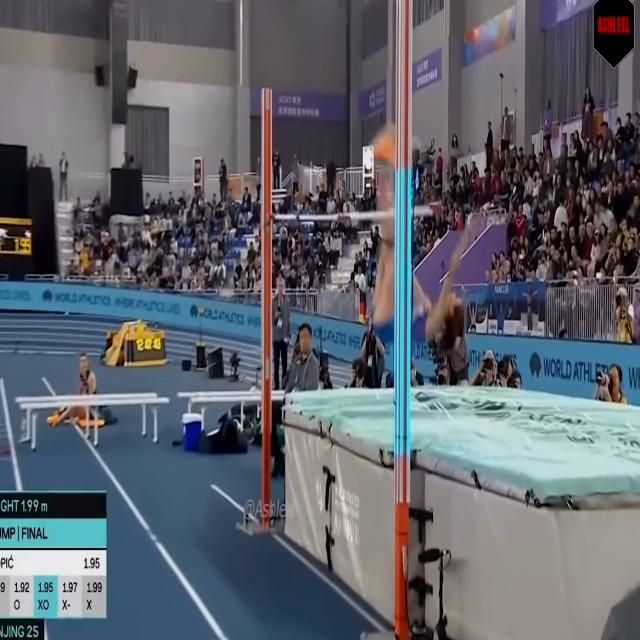land: (370, 118, 473, 344)
